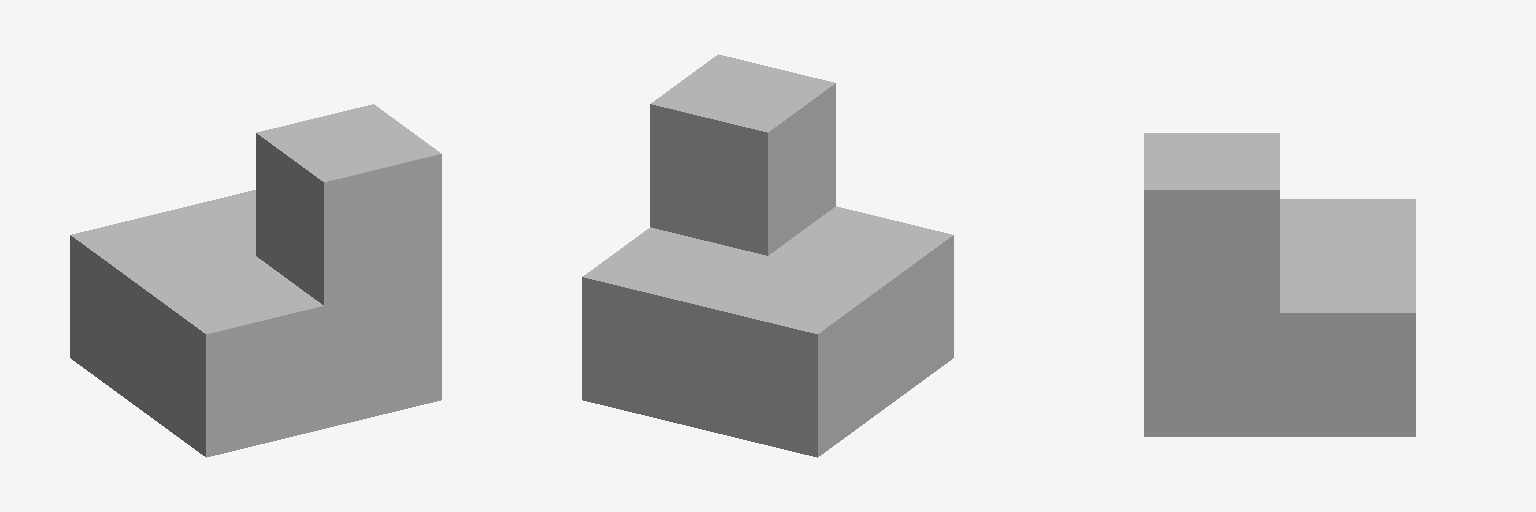
The model's file is stairs_outer.obj.
3 renders of one model, left to right at view 1: azimuth 30°, elevation 25°; view 2: azimuth 150°, elevation 25°; view 3: azimuth 270°, elevation 25°, orthographic.
Parts seen in each view (by area): view 1: cube, cube.001; view 2: cube, cube.001; view 3: cube, cube.001.
Boxes of the visible parts, <box> form: cube: <box>70,190,441,457</box>; cube.001: <box>256,104,441,305</box>; cube: <box>582,206,953,457</box>; cube.001: <box>650,54,835,255</box>; cube: <box>1144,199,1415,436</box>; cube.001: <box>1144,133,1279,312</box>.
Bounding box in the file's own units: 1 × 1 × 1.